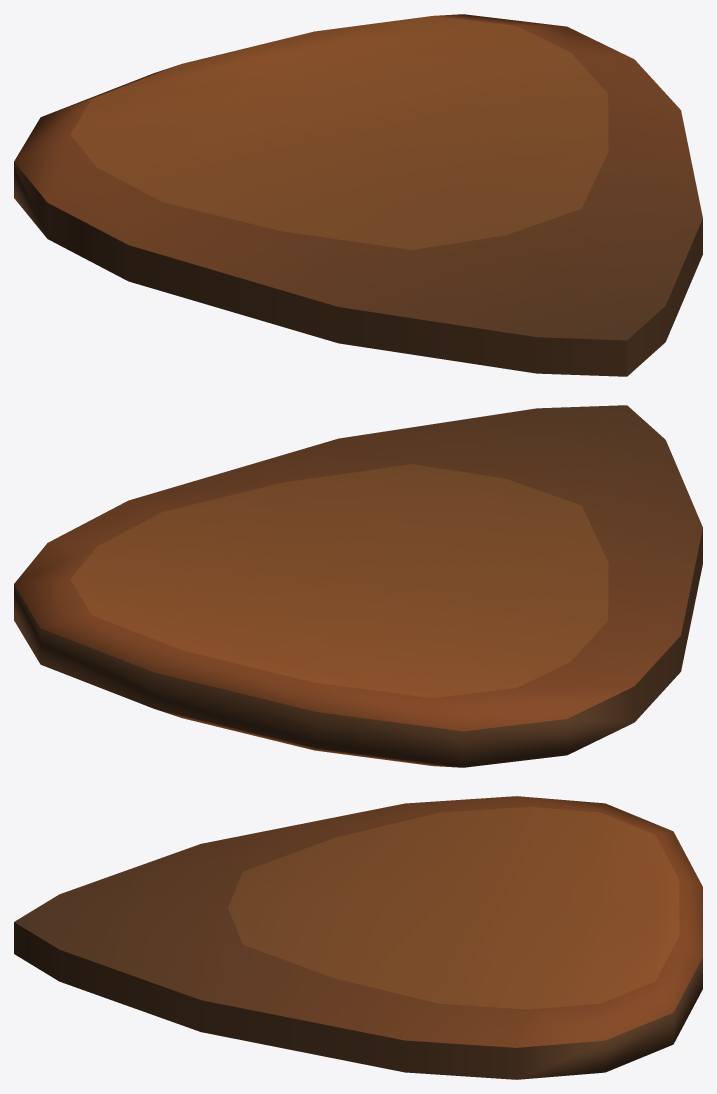
File: human-music-guitar-pick_v1.glb
3 views of the same model, one above another, from view 1: azimuth 30°, elevation 25°; view 2: azimuth 150°, elevation 25°; view 3: azimuth 270°, elevation 25° (orthographic). The views are drawn at different scales.
Visible parts, largest first — view 1: Guitar Pick; view 2: Guitar Pick; view 3: Guitar Pick.
Part boxes in pixels (box(x1,y1,x2,y2)): Guitar Pick: box(14, 14, 702, 376); Guitar Pick: box(14, 405, 702, 767); Guitar Pick: box(14, 796, 702, 1079).
Size of the model in its own units: 0.0259 by 0.00287 by 0.03.
